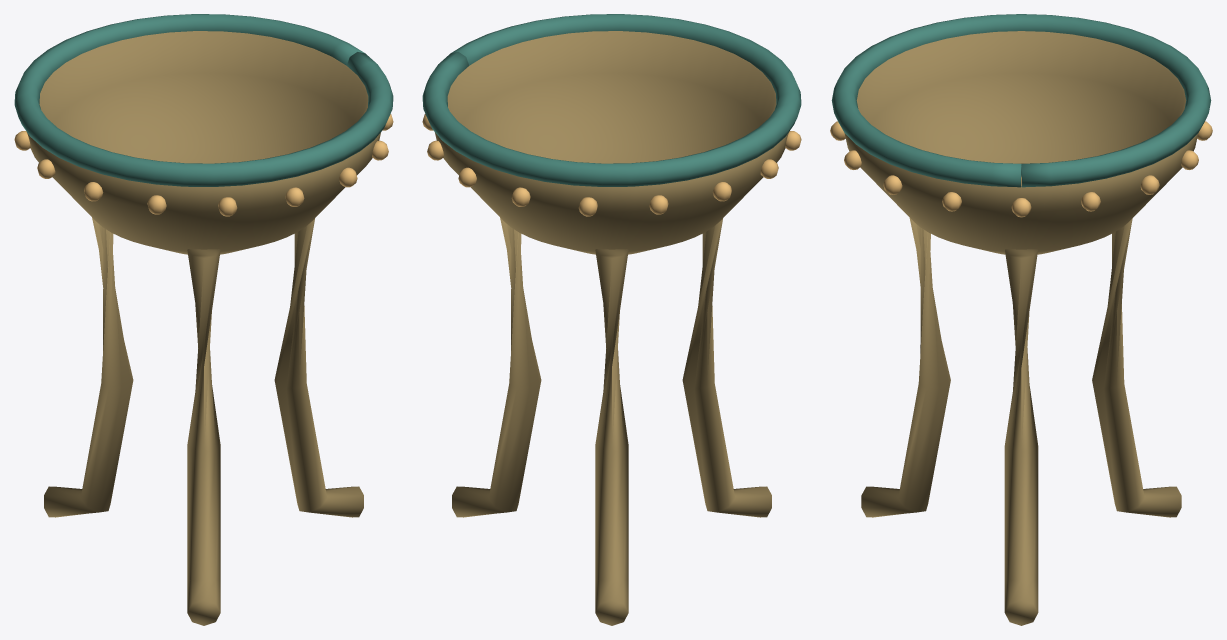
The model's file is bronze-brazier.glb.
3 views of the same model, side by side, from view 1: azimuth 30°, elevation 25°; view 2: azimuth 150°, elevation 25°; view 3: azimuth 270°, elevation 25° (orthographic).
Parts seen in each view (by area): view 1: bronze-brazier__bronze, bronze-brazier__patina, bronze-brazier__ochre; view 2: bronze-brazier__bronze, bronze-brazier__patina, bronze-brazier__ochre; view 3: bronze-brazier__bronze, bronze-brazier__patina, bronze-brazier__ochre.
Boxes of the visible parts, <box> form: bronze-brazier__bronze: <box>27,31,380,625</box>; bronze-brazier__patina: <box>14,14,393,186</box>; bronze-brazier__ochre: <box>14,114,393,216</box>; bronze-brazier__bronze: <box>435,31,788,625</box>; bronze-brazier__patina: <box>422,14,801,186</box>; bronze-brazier__ochre: <box>422,114,801,216</box>; bronze-brazier__bronze: <box>844,31,1198,625</box>; bronze-brazier__patina: <box>831,14,1211,187</box>; bronze-brazier__ochre: <box>830,121,1212,217</box>.
Bounding box in the file's own units: 0.918 × 1.23 × 0.918.
